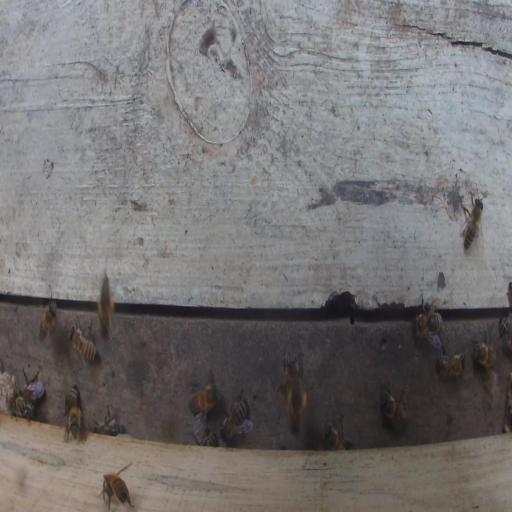bee: (220, 398, 249, 439), (69, 324, 99, 363), (97, 272, 114, 340), (102, 473, 132, 511), (287, 380, 307, 435), (381, 393, 406, 433), (465, 197, 483, 250), (189, 384, 218, 415), (435, 354, 464, 382), (414, 312, 443, 334), (473, 342, 497, 368), (40, 303, 56, 341), (498, 314, 512, 357), (9, 396, 35, 419), (94, 418, 126, 436), (324, 424, 345, 451), (19, 381, 44, 402), (65, 383, 78, 422), (286, 351, 299, 390), (68, 409, 82, 441), (199, 432, 216, 447)
